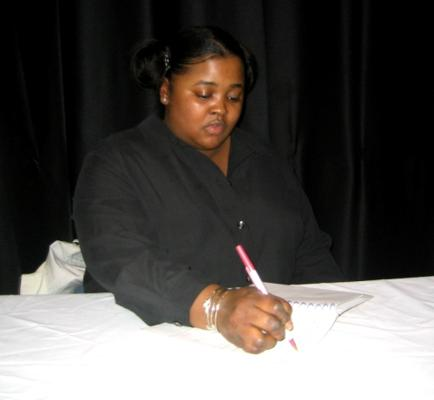person: (71, 25, 344, 357)
